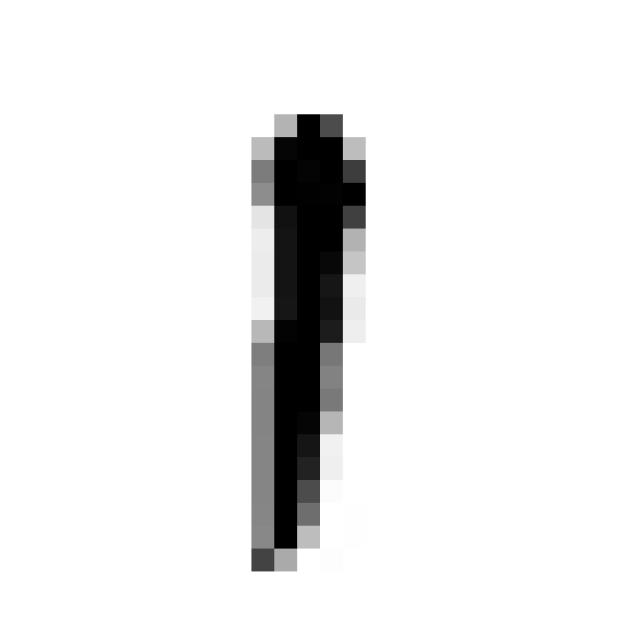1 -one-: (226, 89, 392, 580)
